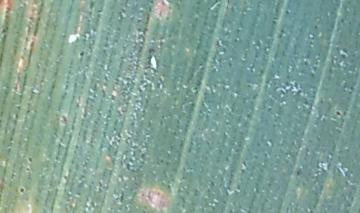tarspot: (18, 186, 25, 193), (79, 51, 85, 58)
